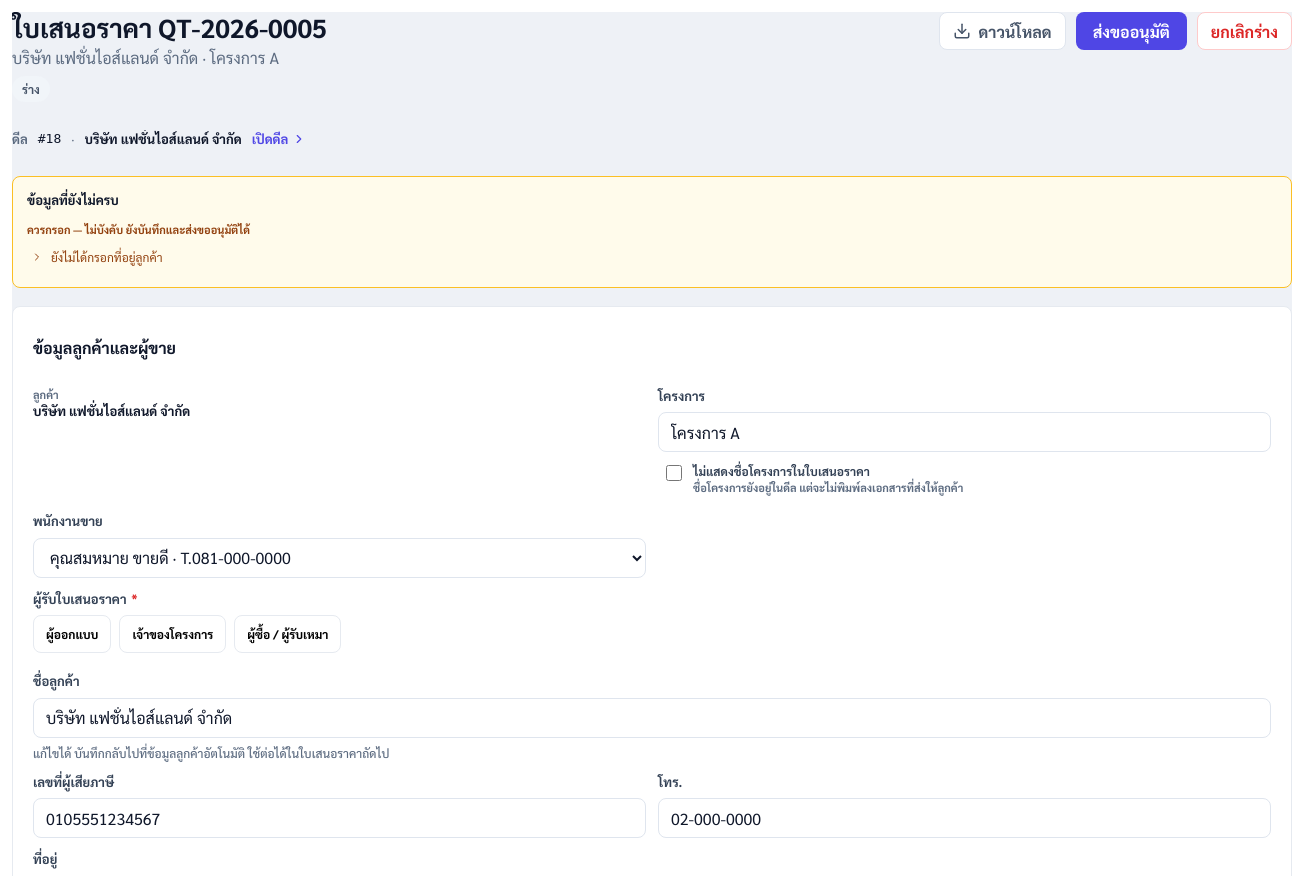
download flushes unsaved edits before rendering the document (2026-09-16 fix) › offers one ดาวน์โหลด menu listing PDF and Excel, and no separate download buttons
Click the button "ดาวน์โหลด" at (1002, 31), box [939,12,1066,50]
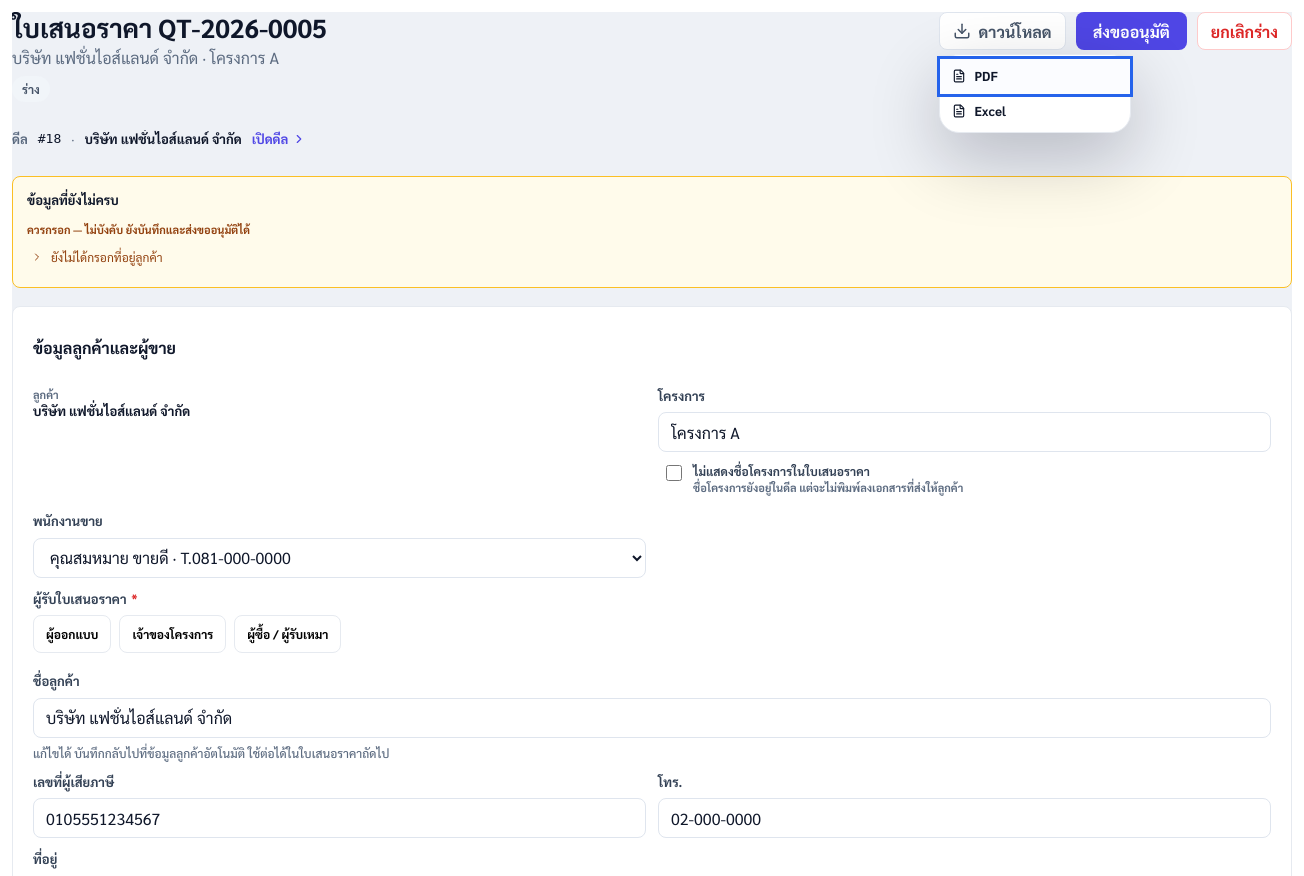
Expected: the menu items read "PDF", "Excel", in this order, [940,59,1130,94]; [940,94,1130,128]
